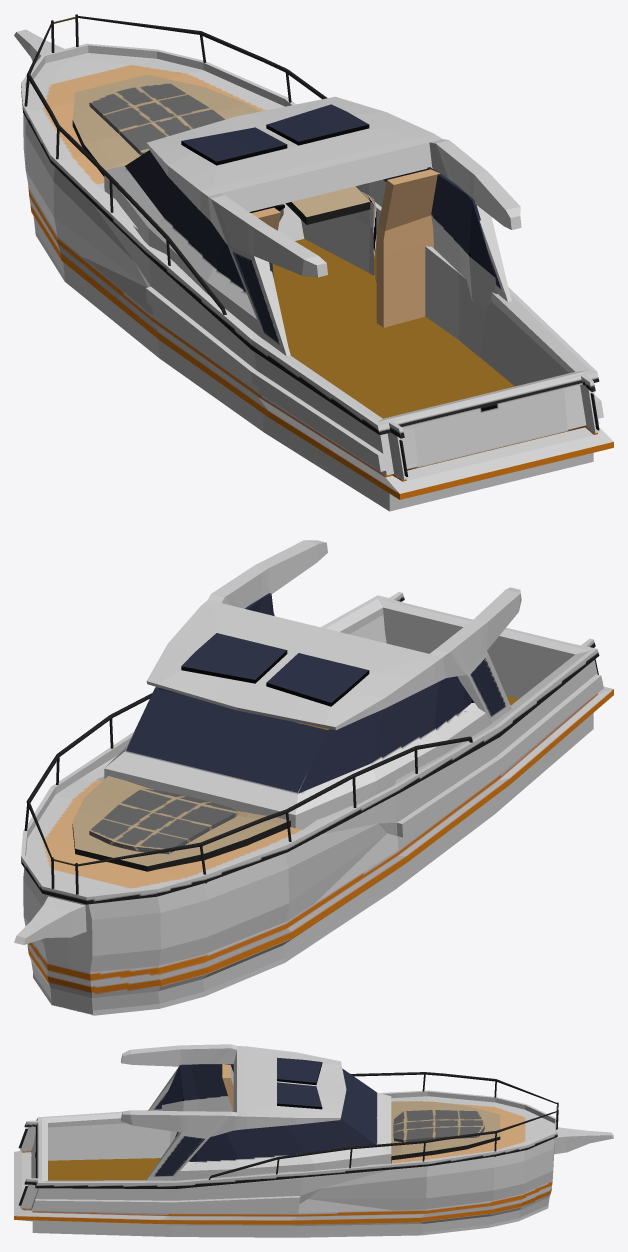
File: Yatch.glb
3 renders of one model, top to bottom at view 1: azimuth 30°, elevation 25°; view 2: azimuth 150°, elevation 25°; view 3: azimuth 270°, elevation 25°, orthographic. The views are drawn at different scales.
Visible parts, largest first — view 1: Boat; view 2: Boat; view 3: Boat.
Boxes of the visible parts, left/top/right/bottom form: Boat: left=14, top=14, right=613, bottom=511; Boat: left=14, top=540, right=613, bottom=1015; Boat: left=14, top=1044, right=613, bottom=1237.
Size of the model in its own units: 0.9284 by 0.6883 by 3.06.
Materials: 1 (1 with a texture image).
